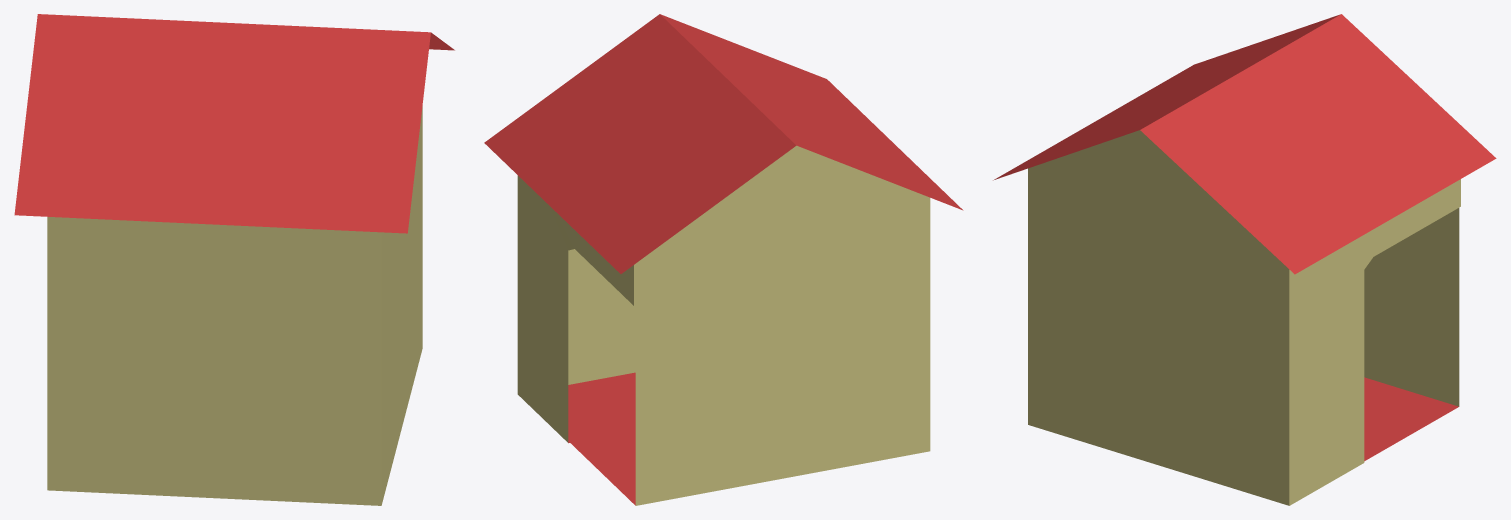
3 views of the same model, side by side, from view 1: azimuth 30°, elevation 25°; view 2: azimuth 150°, elevation 25°; view 3: azimuth 270°, elevation 25° (orthographic). The views are drawn at different scales.
Parts seen in each view (by area): view 1: group_5, group_3, group_4; view 2: group_5, group_3, group_6; view 3: group_5, group_3, group_6.
Part boxes in pixels (box(x1,y1,x2,y2)): group_5: box(47, 106, 422, 505); group_3: box(14, 14, 430, 233); group_4: box(17, 14, 454, 231); group_5: box(517, 145, 930, 505); group_3: box(484, 14, 963, 273); group_6: box(568, 372, 635, 505); group_5: box(1028, 130, 1460, 505); group_3: box(993, 14, 1496, 274); group_6: box(1364, 377, 1458, 461).
Size of the model in its own units: 14.61 by 14.83 by 11.13.
